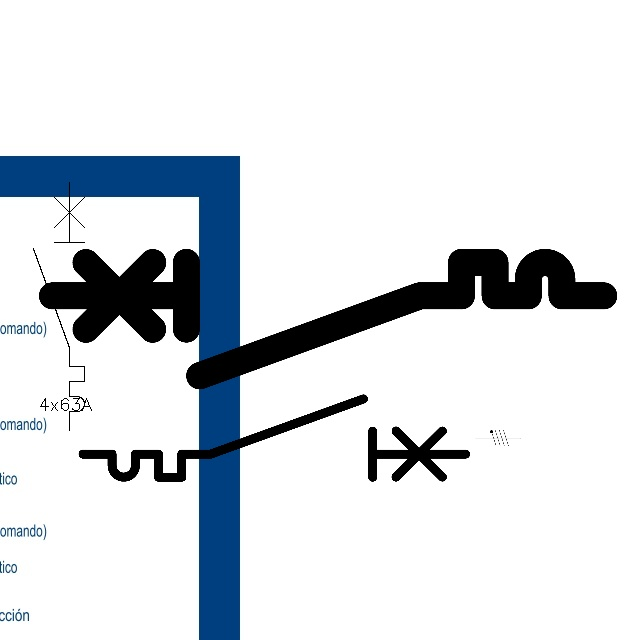interruptor_termomagnetico: (38, 248, 618, 390), (73, 389, 475, 487), (27, 176, 91, 437)
